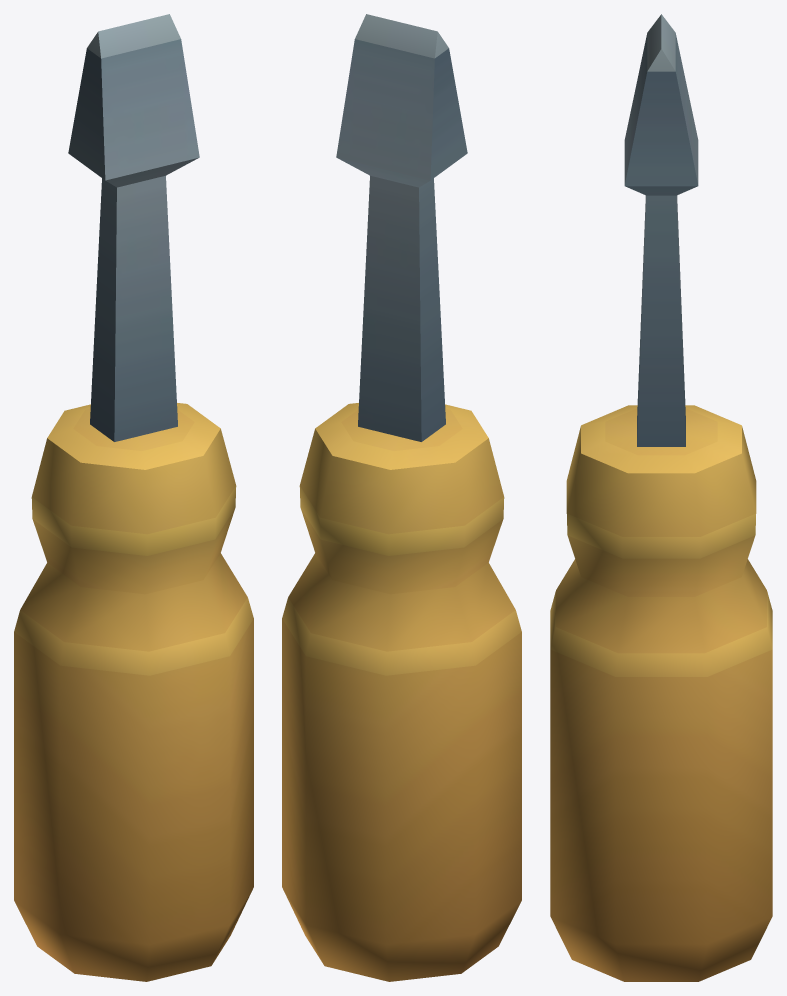
Rendered from screwdriver_a_short_color.glb.
3 renders of one model, left to right at view 1: azimuth 30°, elevation 25°; view 2: azimuth 150°, elevation 25°; view 3: azimuth 270°, elevation 25°, orthographic.
Parts seen in each view (by area): view 1: screwdriver_A_short_color; view 2: screwdriver_A_short_color; view 3: screwdriver_A_short_color.
Part boxes in pixels (box(x1,y1,x2,y2)): screwdriver_A_short_color: box(14, 14, 253, 981); screwdriver_A_short_color: box(282, 14, 521, 981); screwdriver_A_short_color: box(550, 14, 772, 981).
Bounding box in the file's own units: 0.1513 × 0.7034 × 0.1513.
1 material, 1 textured.
